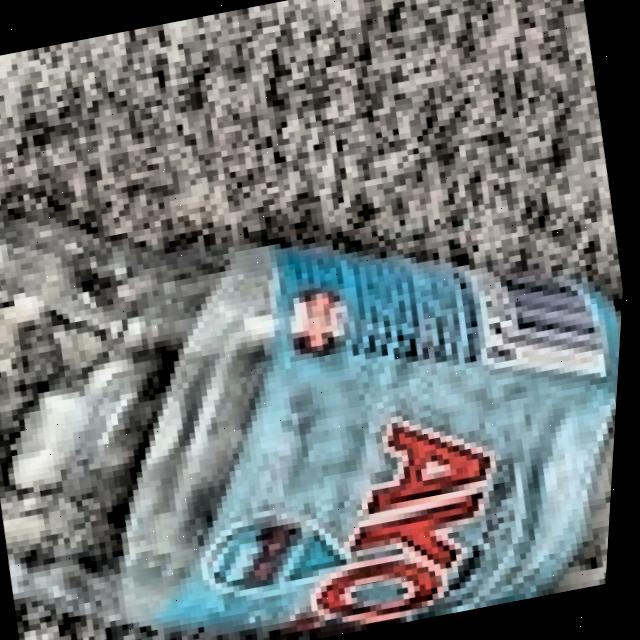plastic: (0, 1, 640, 640)
